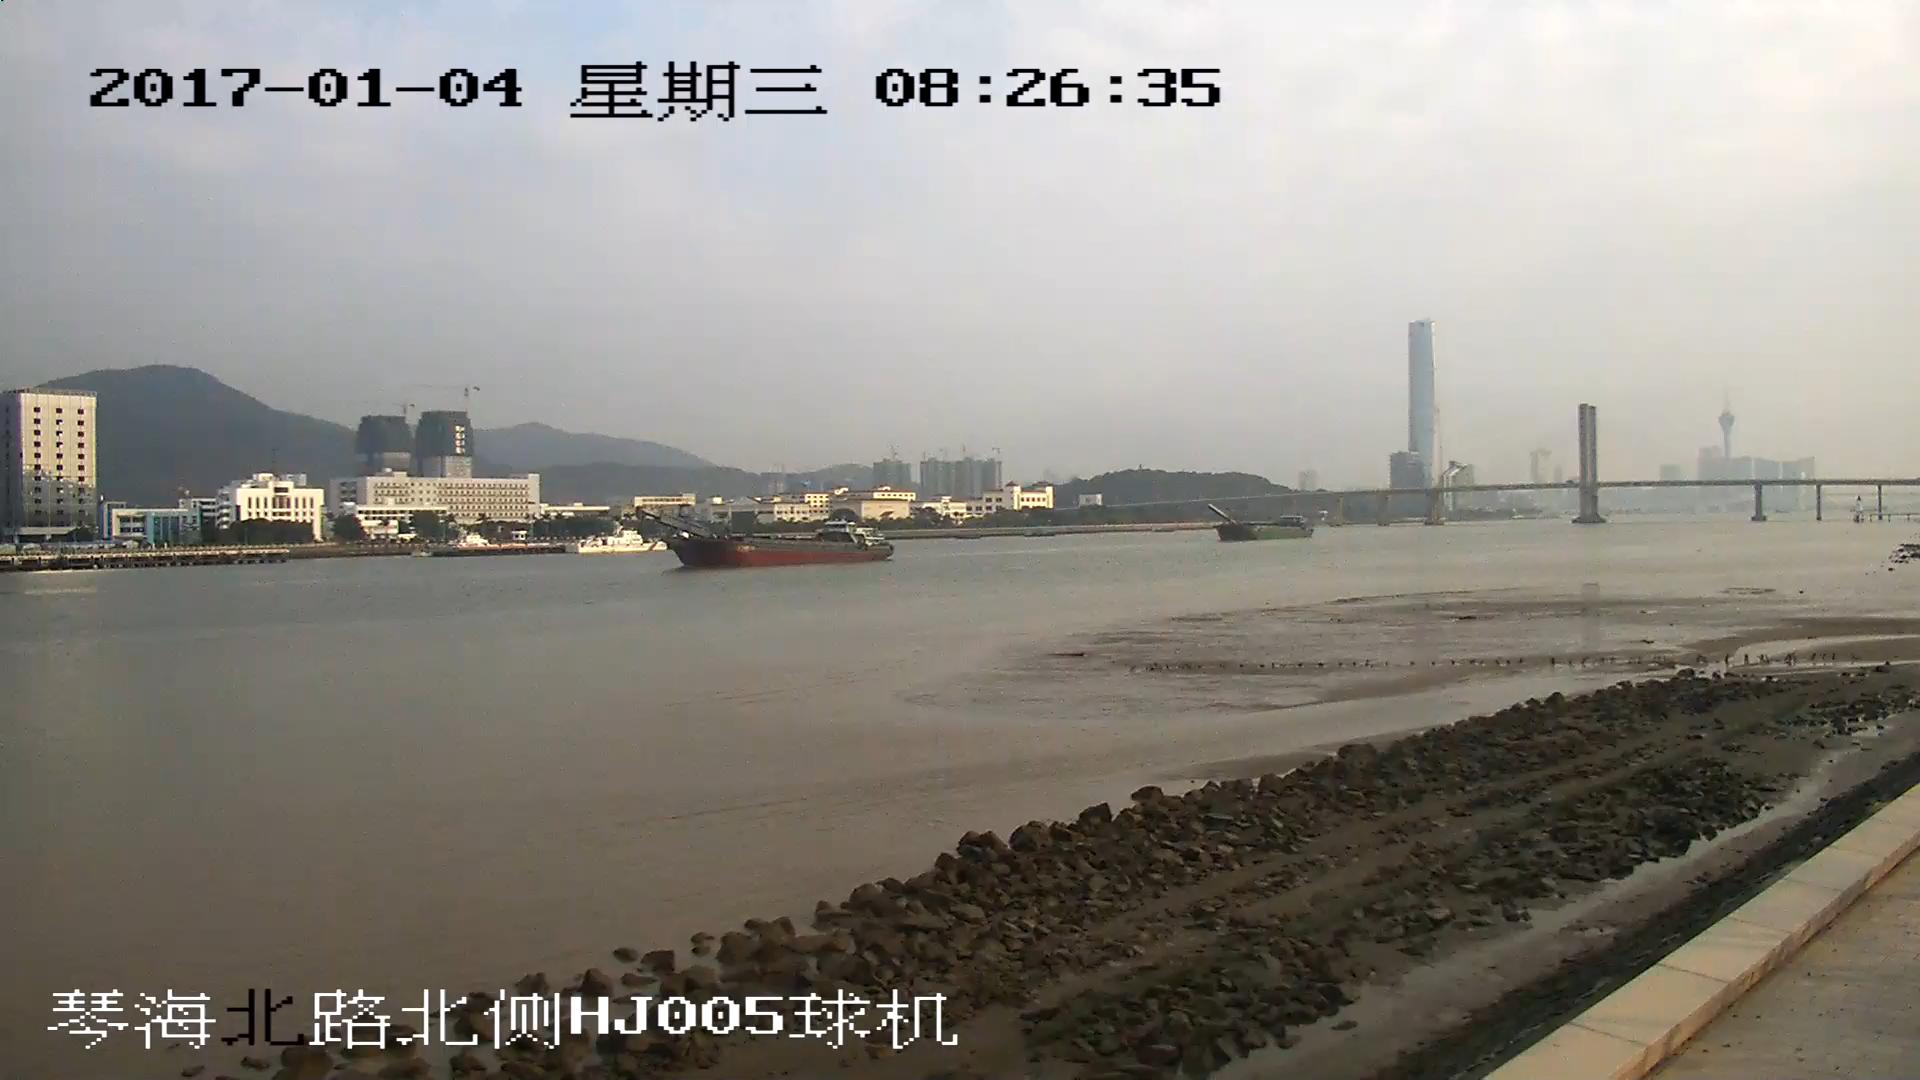bulk cargo carrier: (636, 507, 894, 563)
